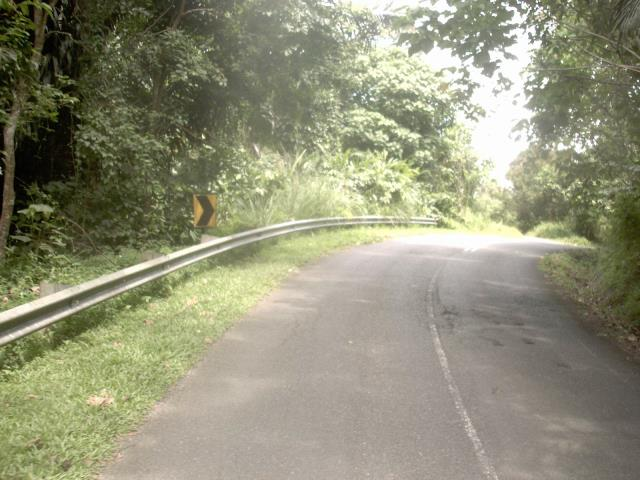traffic_sign: (183, 185, 226, 238)
